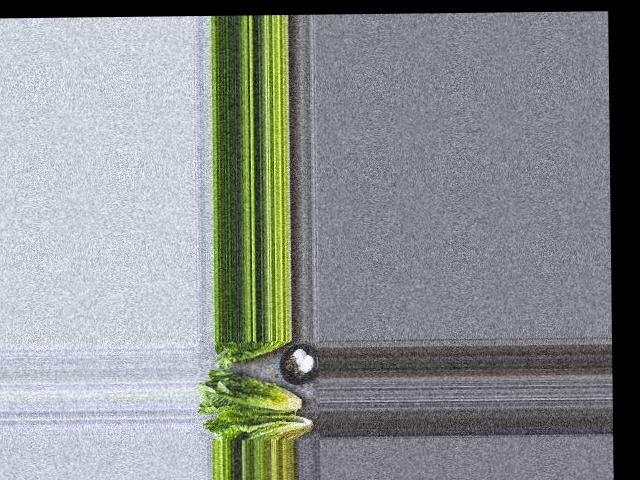lettuce: (211, 410, 320, 440)
